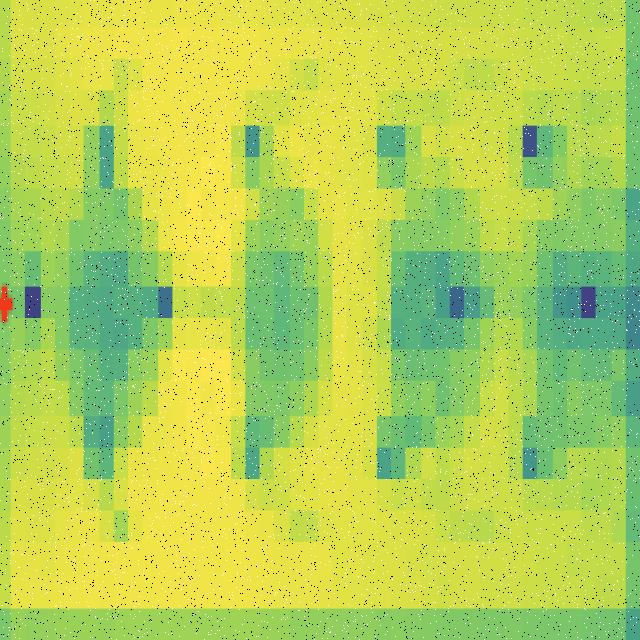Concrete: (224, 178, 352, 492)
Glass: (47, 172, 188, 473)
Metal: (373, 170, 498, 465)
Wood: (528, 168, 632, 452)
